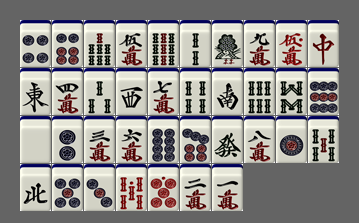0m: (276, 20, 307, 67)
0p: (148, 164, 179, 211)
0s: (116, 164, 147, 211)
1m: (212, 164, 243, 211)
1p: (276, 116, 307, 163)
1s: (212, 20, 243, 67)
1z: (20, 68, 51, 115)
2m: (180, 164, 211, 211)
2p: (52, 116, 83, 163)
2s: (180, 20, 211, 67)
2z: (212, 68, 243, 115)
3m: (84, 116, 115, 163)
3p: (84, 164, 115, 211)
3s: (84, 68, 115, 115)
3z: (116, 68, 147, 115)
4m: (52, 68, 83, 115)
4p: (20, 20, 51, 67)
4s: (180, 68, 211, 115)
4z: (20, 164, 51, 211)
5m: (116, 20, 147, 67)
5p: (52, 164, 83, 211)
5s: (308, 116, 339, 163)
5z: (20, 116, 51, 163)
6m: (116, 116, 147, 163)
6p: (52, 20, 83, 67)
6s: (244, 68, 275, 115)
6z: (212, 116, 243, 163)
7m: (148, 68, 179, 115)
7p: (180, 116, 211, 163)
7s: (84, 20, 115, 67)
7z: (308, 20, 339, 67)
8m: (244, 116, 275, 163)
8p: (148, 116, 179, 163)
8s: (276, 68, 307, 115)
9m: (244, 20, 275, 67)
9p: (308, 68, 339, 115)
9s: (148, 20, 179, 67)
